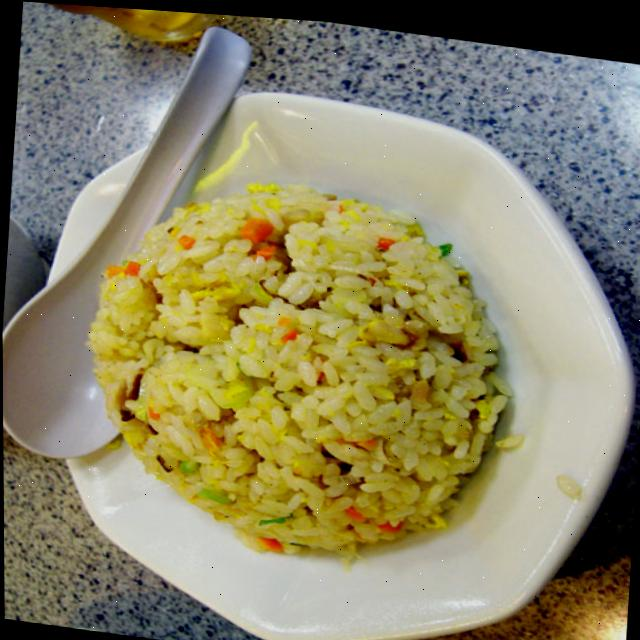米饭主食: (19, 54, 640, 640)
